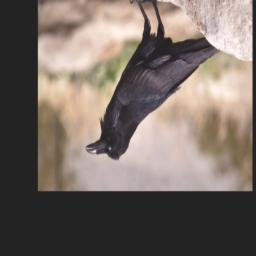Crow: (84, 0, 222, 165)
